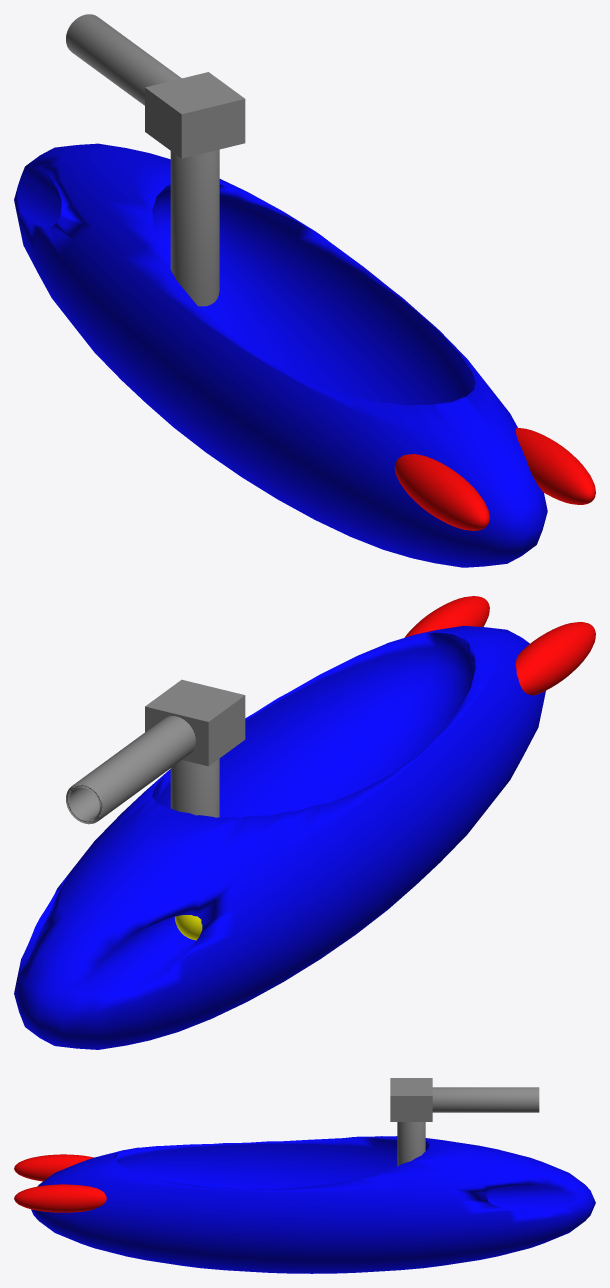
File: coaster.fbx
3 renders of one model, top to bottom at view 1: azimuth 30°, elevation 25°; view 2: azimuth 150°, elevation 25°; view 3: azimuth 270°, elevation 25°, orthographic. The views are drawn at different scales.
Parts seen in each view (by area): view 1: Body, Canon, CanonBody, CanonHead, LeftTail, RightTail; view 2: Body, CanonHead, CanonBody, LeftTail, Canon, RightTail; view 3: Body, CanonHead, RightTail, CanonBody, LeftTail, Canon.
Boxes of the visible parts, box(x1,y1,x2,y2) form: Body: box(14, 143, 547, 567); Canon: box(170, 149, 219, 306); CanonBody: box(145, 72, 245, 158); CanonHead: box(66, 14, 181, 105); LeftTail: box(394, 454, 489, 530); RightTail: box(515, 427, 595, 504); Body: box(14, 625, 545, 1049); CanonHead: box(66, 716, 195, 824); CanonBody: box(145, 679, 245, 766); LeftTail: box(515, 622, 595, 695); Canon: box(170, 758, 219, 817); RightTail: box(404, 596, 489, 637); Body: box(31, 1136, 595, 1273); CanonHead: box(432, 1087, 539, 1112); RightTail: box(14, 1184, 106, 1212); CanonBody: box(390, 1078, 432, 1121); LeftTail: box(14, 1154, 93, 1181); Canon: box(397, 1122, 425, 1166).
Bounding box in the file's own units: 200 × 280 × 820.
